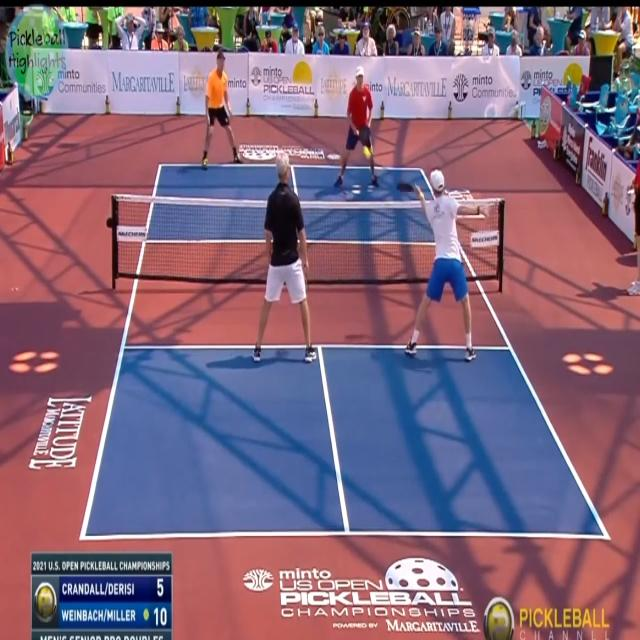Court: (82, 165, 607, 539)
ball: (357, 137, 376, 167)
